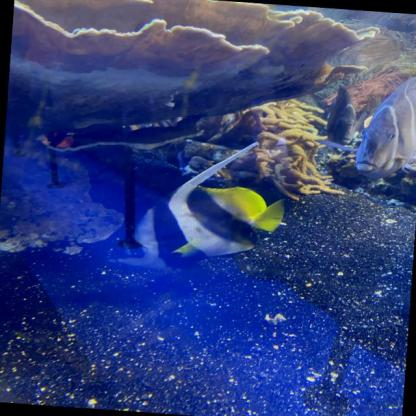fish: (108, 179, 286, 280), (353, 68, 415, 181)
